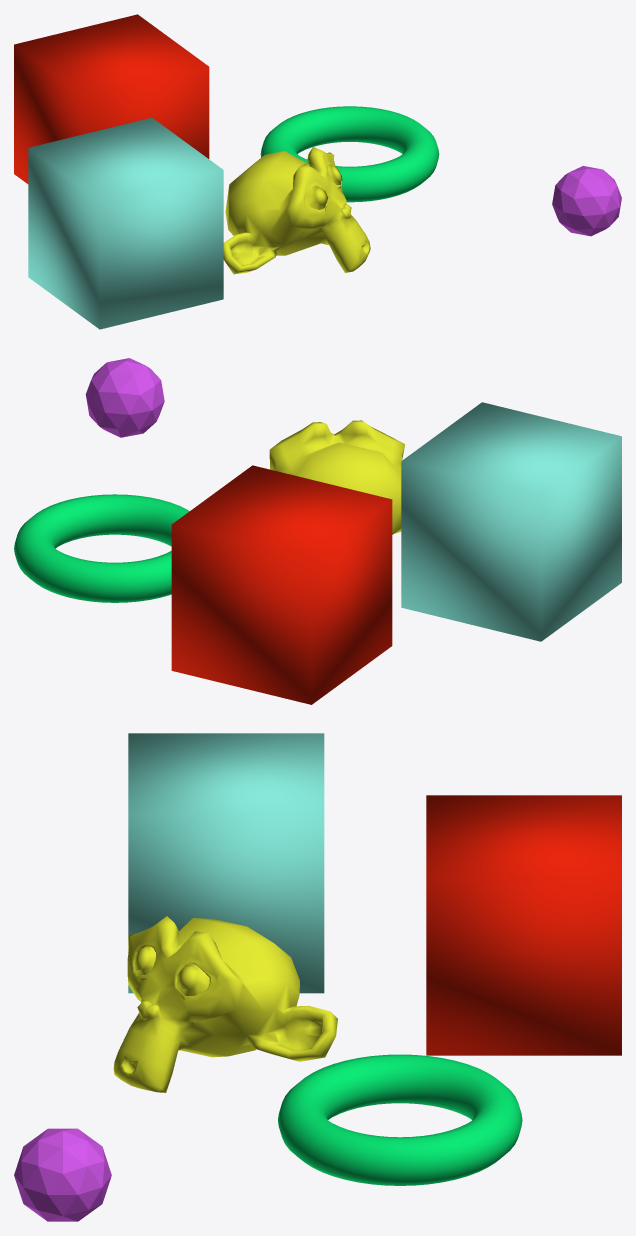
3 views of the same model, one above another, from view 1: azimuth 30°, elevation 25°; view 2: azimuth 150°, elevation 25°; view 3: azimuth 270°, elevation 25° (orthographic). The views are drawn at different scales.
Visible parts, largest first — view 1: Cube, Cube.001, Suzanne, Torus, Icosphere; view 2: Cube.001, Cube, Torus, Suzanne, Icosphere; view 3: Cube.001, Cube, Suzanne, Torus, Icosphere.
Boxes of the visible parts, <box> form: Cube: <box>28,117,223,329</box>; Cube.001: <box>14,14,209,183</box>; Suzanne: <box>223,147,370,274</box>; Torus: <box>260,106,439,202</box>; Icosphere: <box>552,166,621,236</box>; Cube.001: <box>171,465,392,704</box>; Cube: <box>401,402,621,641</box>; Torus: <box>14,494,189,602</box>; Suzanne: <box>269,420,405,534</box>; Icosphere: <box>85,358,164,437</box>; Cube.001: <box>426,795,621,1055</box>; Cube: <box>128,733,324,993</box>; Suzanne: <box>113,916,337,1092</box>; Torus: <box>278,1054,522,1185</box>; Icosphere: <box>14,1128,111,1221</box>.
Size of what is drawn, in the model's own units: 7.96 by 2.04 by 6.21.
